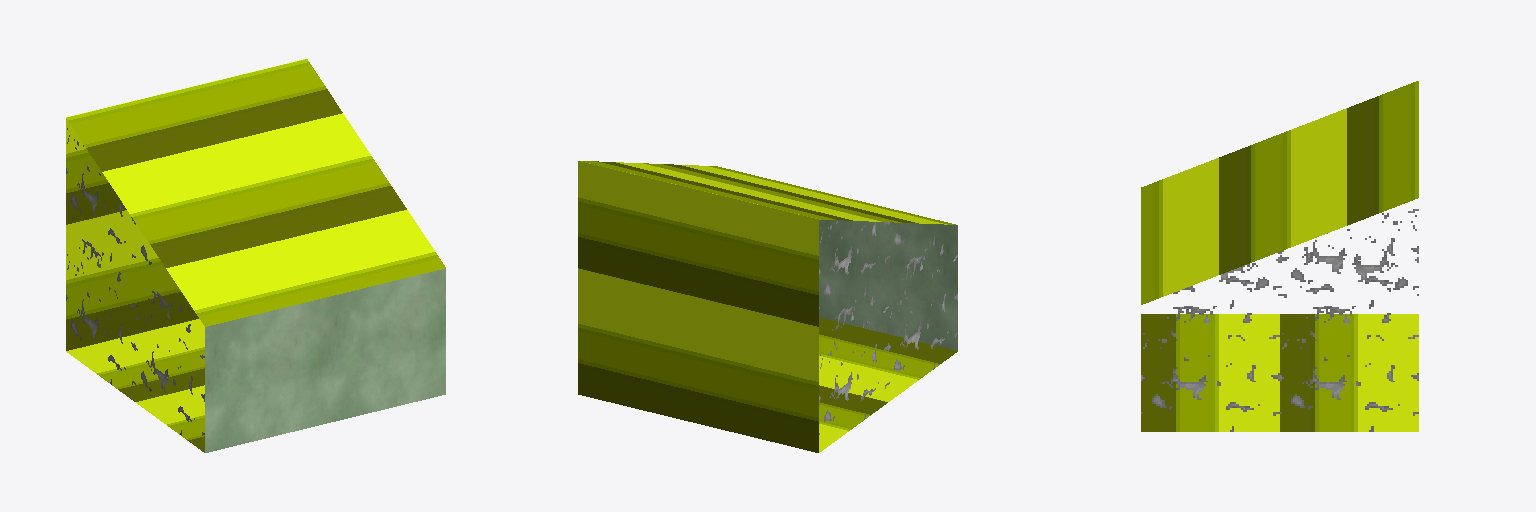
3 views of the same model, side by side, from view 1: azimuth 30°, elevation 25°; view 2: azimuth 150°, elevation 25°; view 3: azimuth 270°, elevation 25° (orthographic).
Visible parts, largest first — view 1: simple-SKP--Material2, simple-SKP--Wax_02, simple-SKP--Material1; view 2: simple-SKP--Material2, simple-SKP--Wax_02, simple-SKP--Material1; view 3: simple-SKP--Material2, simple-SKP--Material1.
Boxes of the visible parts, <box> form: simple-SKP--Material2: <box>66,59,445,452</box>; simple-SKP--Wax_02: <box>205,268,445,452</box>; simple-SKP--Material1: <box>66,128,204,435</box>; simple-SKP--Material2: <box>578,161,957,452</box>; simple-SKP--Wax_02: <box>819,220,957,350</box>; simple-SKP--Material1: <box>819,221,957,434</box>; simple-SKP--Material2: <box>1141,81,1418,431</box>; simple-SKP--Material1: <box>1141,209,1418,431</box>.
Bounding box in the file's own units: 4000 × 3704 × 4000.
3 materials, 3 textured.